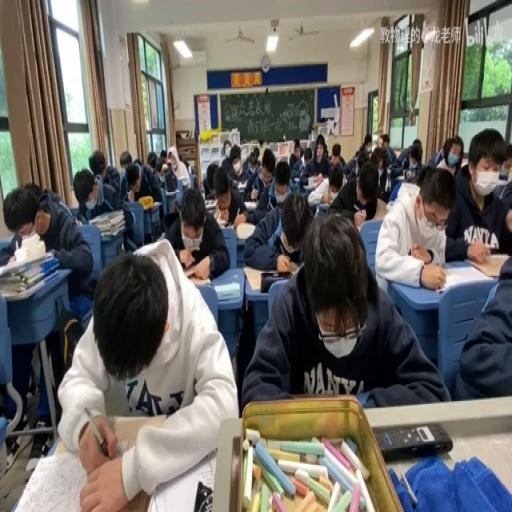calculator: (9, 448, 86, 512), (149, 445, 219, 509), (240, 260, 294, 289), (440, 263, 495, 289), (87, 209, 125, 239), (213, 282, 241, 300), (235, 222, 256, 240), (138, 196, 162, 209), (212, 214, 234, 228), (186, 272, 211, 284), (315, 200, 330, 214), (288, 257, 300, 273), (306, 175, 320, 188), (204, 196, 217, 208), (155, 170, 165, 184), (242, 201, 258, 209), (232, 181, 248, 189), (74, 216, 82, 225), (291, 176, 299, 184), (395, 174, 405, 179)
paper: (60, 240, 238, 508), (244, 210, 446, 410), (2, 179, 94, 424), (443, 130, 511, 260), (162, 185, 228, 280), (245, 182, 312, 270), (326, 158, 382, 226), (122, 158, 166, 239), (390, 135, 422, 184), (89, 148, 120, 196), (429, 135, 462, 178), (220, 141, 245, 183), (326, 141, 347, 175), (351, 132, 373, 164), (240, 145, 259, 176), (202, 161, 218, 196), (498, 147, 512, 179), (343, 154, 359, 180), (288, 139, 301, 168), (261, 150, 275, 176), (23, 180, 42, 198), (314, 135, 326, 161), (163, 168, 176, 192), (118, 150, 132, 170), (370, 150, 384, 170), (154, 155, 166, 172), (302, 146, 312, 164), (379, 132, 389, 150), (146, 151, 156, 168), (178, 152, 187, 168), (414, 150, 422, 164), (398, 149, 406, 162), (132, 158, 142, 168), (160, 151, 166, 159)
person: (373, 420, 453, 460), (488, 245, 504, 253)
